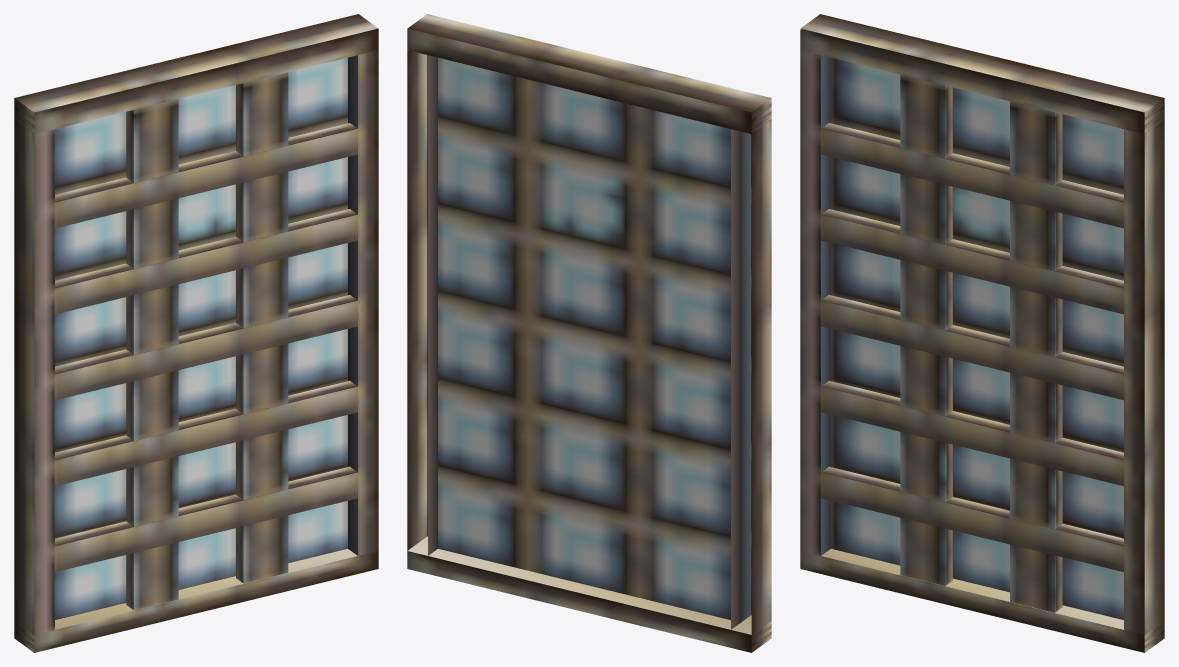
File: Poly_SF_Outside_B_Window_16.obj
The picture shows the model from 3 angles, left to right: view 1: azimuth 30°, elevation 25°; view 2: azimuth 150°, elevation 25°; view 3: azimuth 330°, elevation 25°; orthographic projection.
Visible parts, largest first — view 1: Cube.001, Cube.003, Cube.004, Cube.002; view 2: Cube.001, Cube.002; view 3: Cube.001, Cube.003, Cube.004, Cube.002.
Boxes of the visible parts, bbox=[...] form: Cube.001: bbox=[14, 14, 378, 652]; Cube.003: bbox=[55, 123, 357, 571]; Cube.004: bbox=[126, 72, 288, 610]; Cube.002: bbox=[14, 50, 378, 634]; Cube.001: bbox=[407, 14, 771, 652]; Cube.002: bbox=[407, 50, 771, 634]; Cube.001: bbox=[800, 14, 1164, 652]; Cube.003: bbox=[821, 123, 1123, 571]; Cube.004: bbox=[900, 74, 1062, 612]; Cube.002: bbox=[800, 50, 1164, 634].
Bounding box in the file's own units: 1 × 1.5 × 0.1.
1 material, 1 textured.
